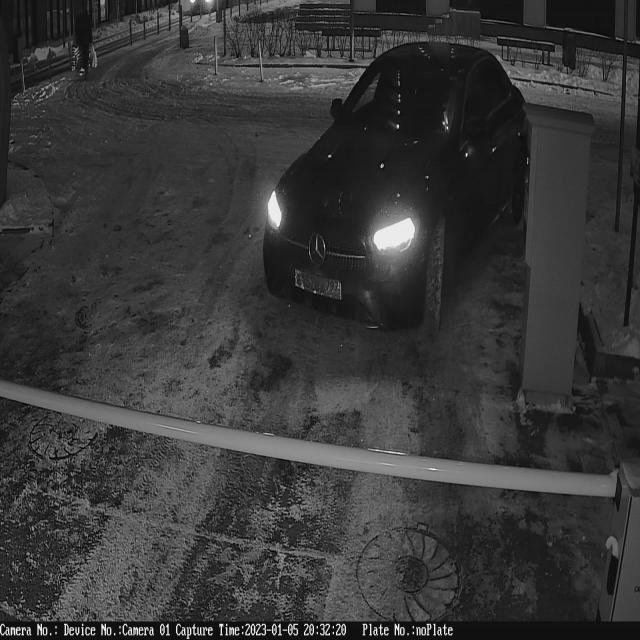car-plate-numbers: (293, 266, 344, 305)
